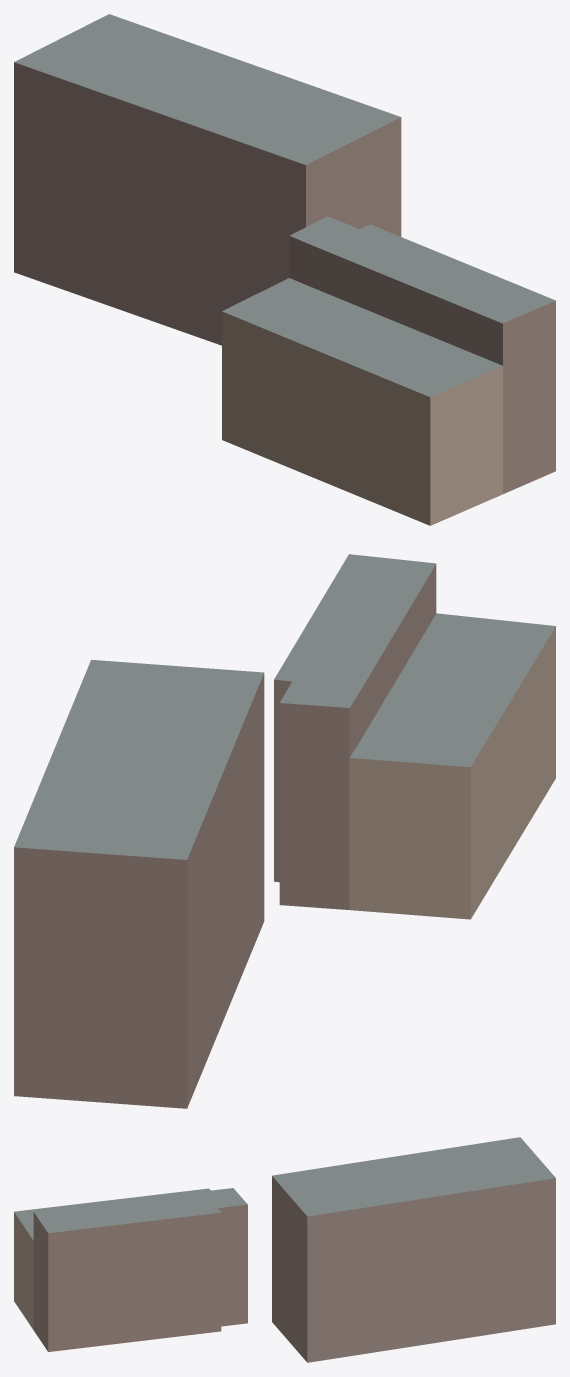
File: context-0--2.gltf
3 renders of one model, top to bottom at view 1: azimuth 30°, elevation 25°; view 2: azimuth 150°, elevation 25°; view 3: azimuth 270°, elevation 25°, orthographic. The views are drawn at different scales.
Parts seen in each view (by area): view 1: context-0--2; view 2: context-0--2; view 3: context-0--2.
Boxes of the visible parts, x1=… form: context-0--2: x1=14, y1=14, x2=555, y2=525; context-0--2: x1=14, y1=554, x2=555, y2=1108; context-0--2: x1=14, y1=1137, x2=555, y2=1362.
Size of the model in its own units: 25.95 by 20.84 by 70.02.
